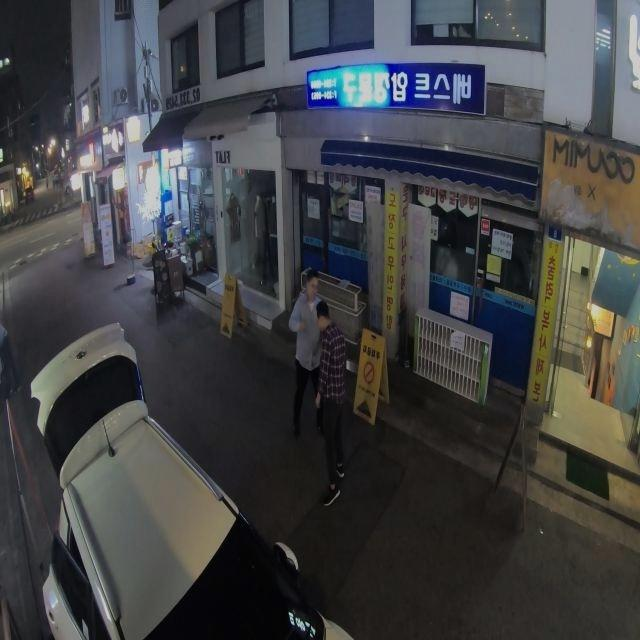fight: (285, 274, 353, 510)
